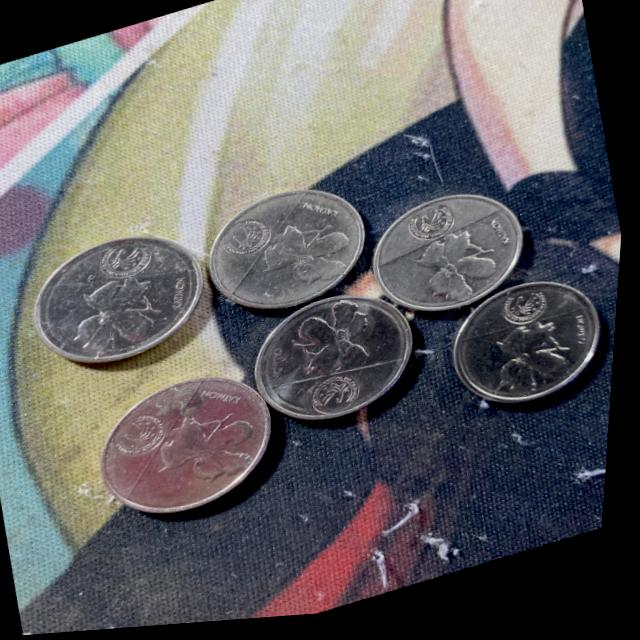25Cent_New_Back: (139, 390, 284, 517), (50, 255, 192, 375), (467, 311, 616, 419), (270, 291, 403, 396), (248, 205, 370, 314), (394, 221, 514, 326)
